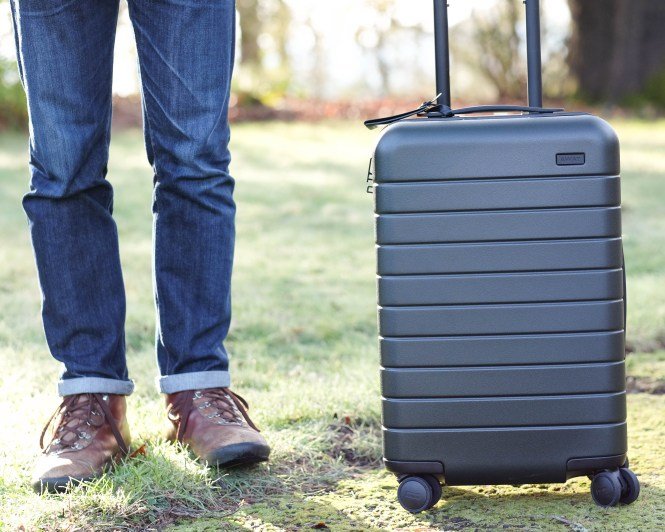luggage: (376, 54, 645, 518)
